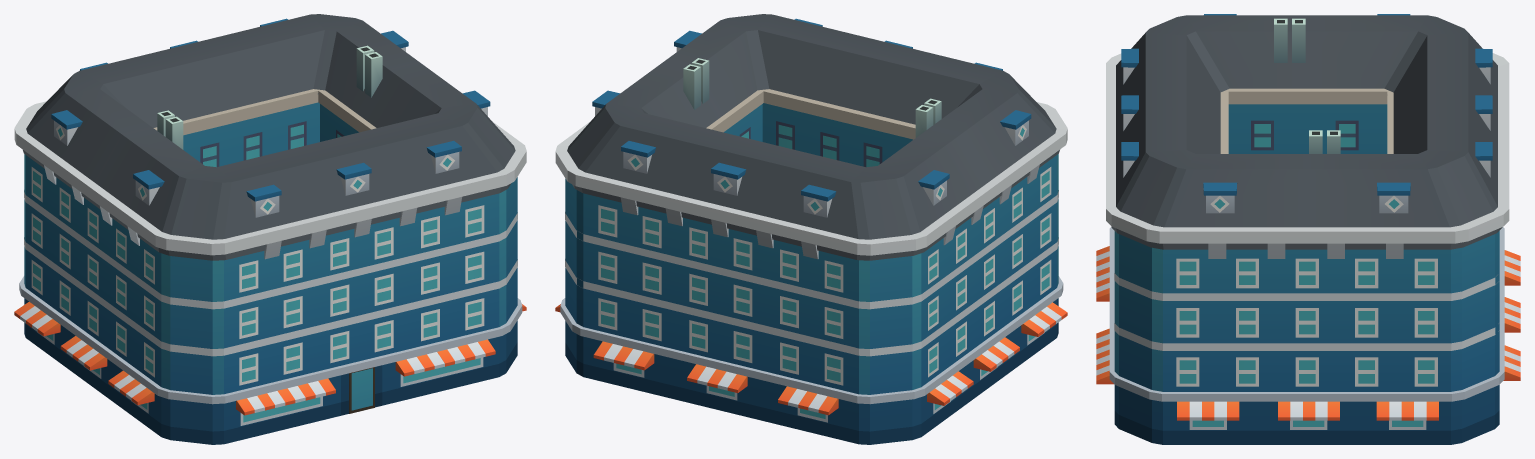
File: Building_cartoon_47.fbx
3 renders of one model, left to right at view 1: azimuth 30°, elevation 25°; view 2: azimuth 150°, elevation 25°; view 3: azimuth 270°, elevation 25°, orthographic. The views are drawn at different scales.
Parts seen in each view (by area): view 1: Building_cartoon_47; view 2: Building_cartoon_47; view 3: Building_cartoon_47.
Part boxes in pixels (x1,y1,x2,y2): Building_cartoon_47: (14,14,526,444); Building_cartoon_47: (555,14,1067,444); Building_cartoon_47: (1096,14,1520,444).
Size of the model in its own units: 2632 by 1678 by 2342.
